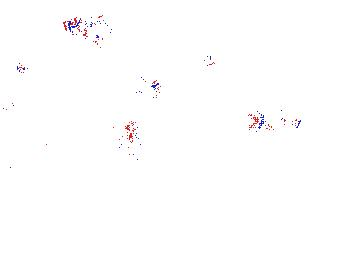X-ray fish: (61, 11, 115, 43)
glassfish: (1, 102, 59, 155), (67, 106, 133, 148)
red belly glassfish: (145, 79, 164, 105), (201, 48, 225, 66)
redtail glassfish: (245, 104, 304, 134)
